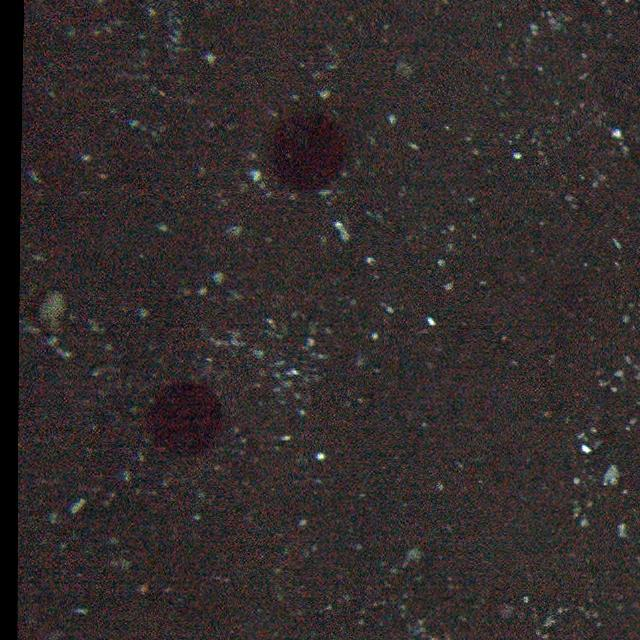whelk: (30, 284, 71, 338)
